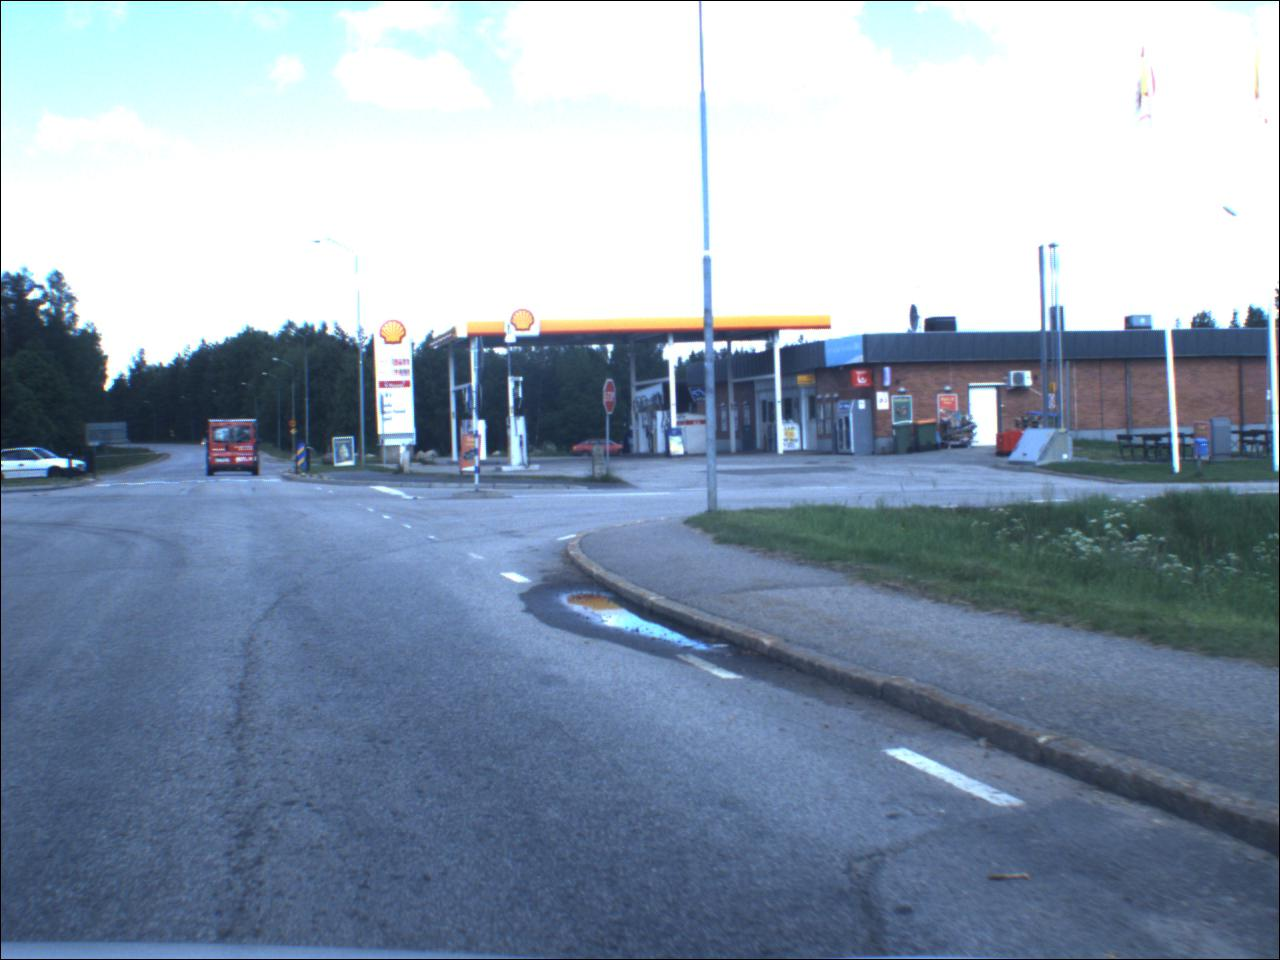50_SIGN: (290, 421, 299, 430)
PRIORITY_ROAD: (292, 430, 301, 438)
STOP: (601, 380, 622, 416)
